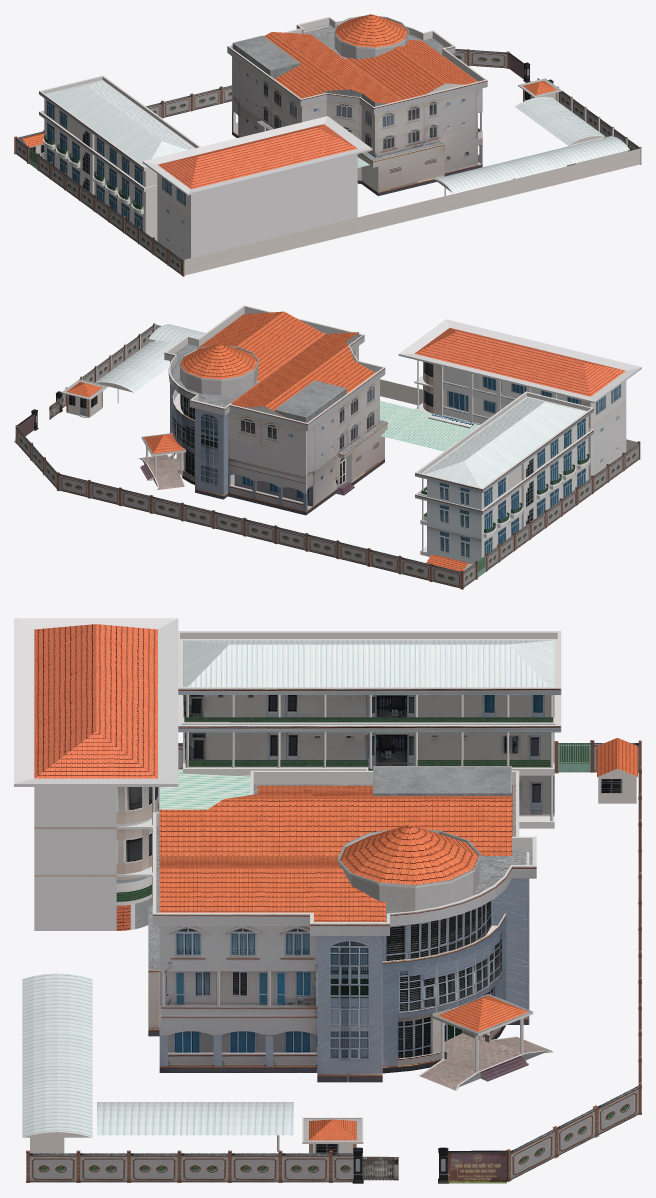
The model's file is Ngan Hang Nha Nuoc Viet Nam.glb.
The picture shows the model from 3 angles, top to bottom: view 1: azimuth 30°, elevation 25°; view 2: azimuth 150°, elevation 25°; view 3: azimuth 270°, elevation 25°; orthographic projection. The views are drawn at different scales.
Visible parts, largest first — view 1: 3, 2, 1; view 2: 3, 2, 1; view 3: 2, 3, 1.
Part boxes in pixels (x1,y1,x2,y2): 3: (39,75,372,259); 2: (227,14,487,195); 1: (14,49,641,276); 3: (380,319,641,563); 2: (138,305,387,515); 1: (14,323,640,589); 2: (148,766,553,1090); 3: (14,618,561,930); 1: (22,738,641,1183).
Bounding box in the file's own units: 71.13 × 16.88 × 45.76.
Materials: 3 (3 with a texture image).
